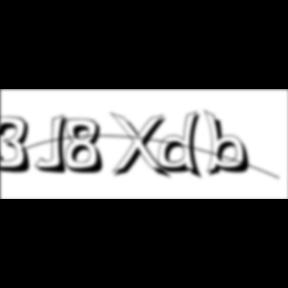3: (1, 116, 37, 176)
8: (66, 117, 110, 176)
J: (36, 114, 74, 176)
X: (110, 112, 174, 182)
b: (204, 109, 256, 179)
d: (158, 110, 208, 182)
